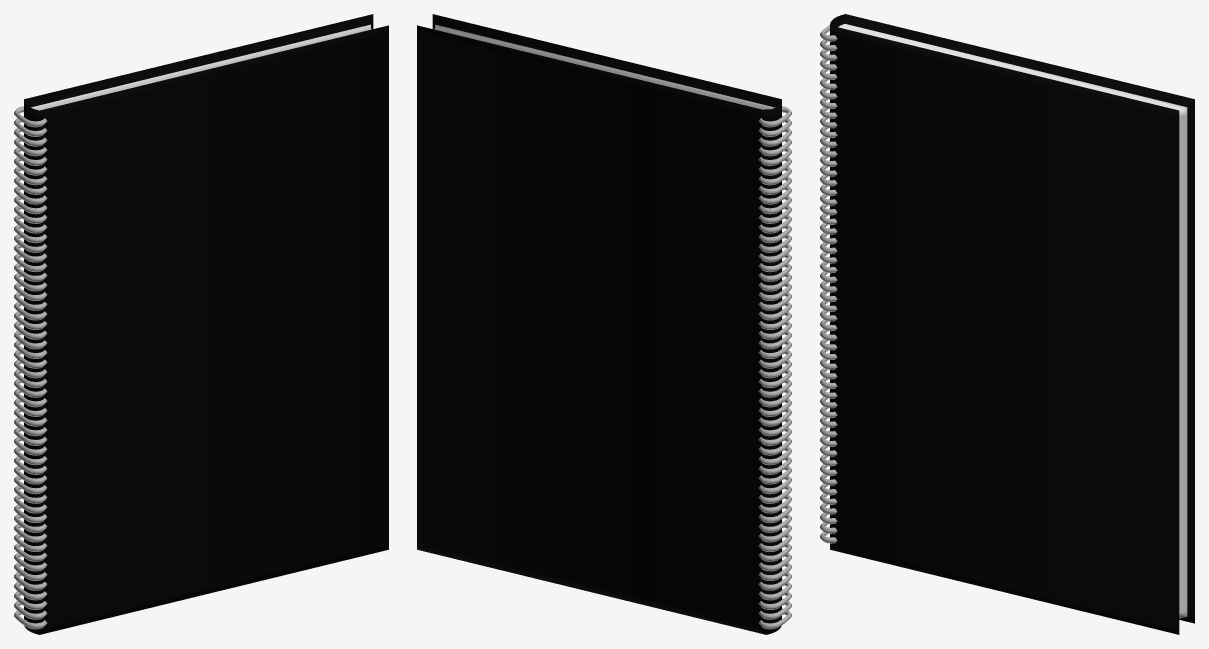
File: notebook.glb
3 renders of one model, left to right at view 1: azimuth 30°, elevation 25°; view 2: azimuth 150°, elevation 25°; view 3: azimuth 330°, elevation 25°, orthographic.
Parts seen in each view (by area): view 1: Object_2; view 2: Object_2; view 3: Object_2.
Part boxes in pixels (bbox=[...]): Object_2: bbox=[14, 14, 388, 634]; Object_2: bbox=[417, 14, 791, 634]; Object_2: bbox=[820, 14, 1194, 634].
Bounding box in the file's own units: 7.84 × 10.86 × 0.8412.
1 material, 1 textured.
